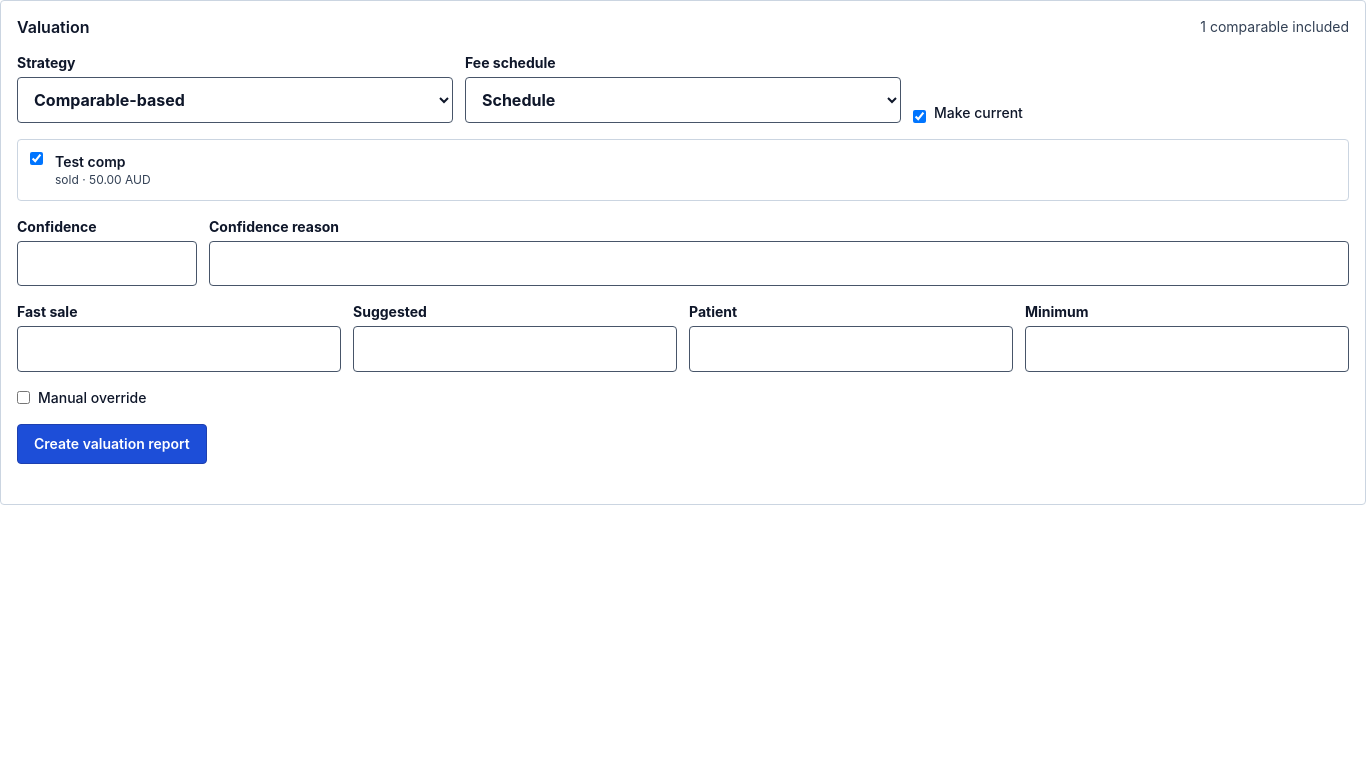
it: ValuationPanel requires an exclusion reason for excluded comps
The width and height of the screenshot is (1366, 768).
Expected: the text "Test comp" is shown, [55, 153, 126, 170]
Click the checkbox labelled "Test comp sold · 50.00 AUD".
click(36, 158)  # box [30, 152, 43, 165]
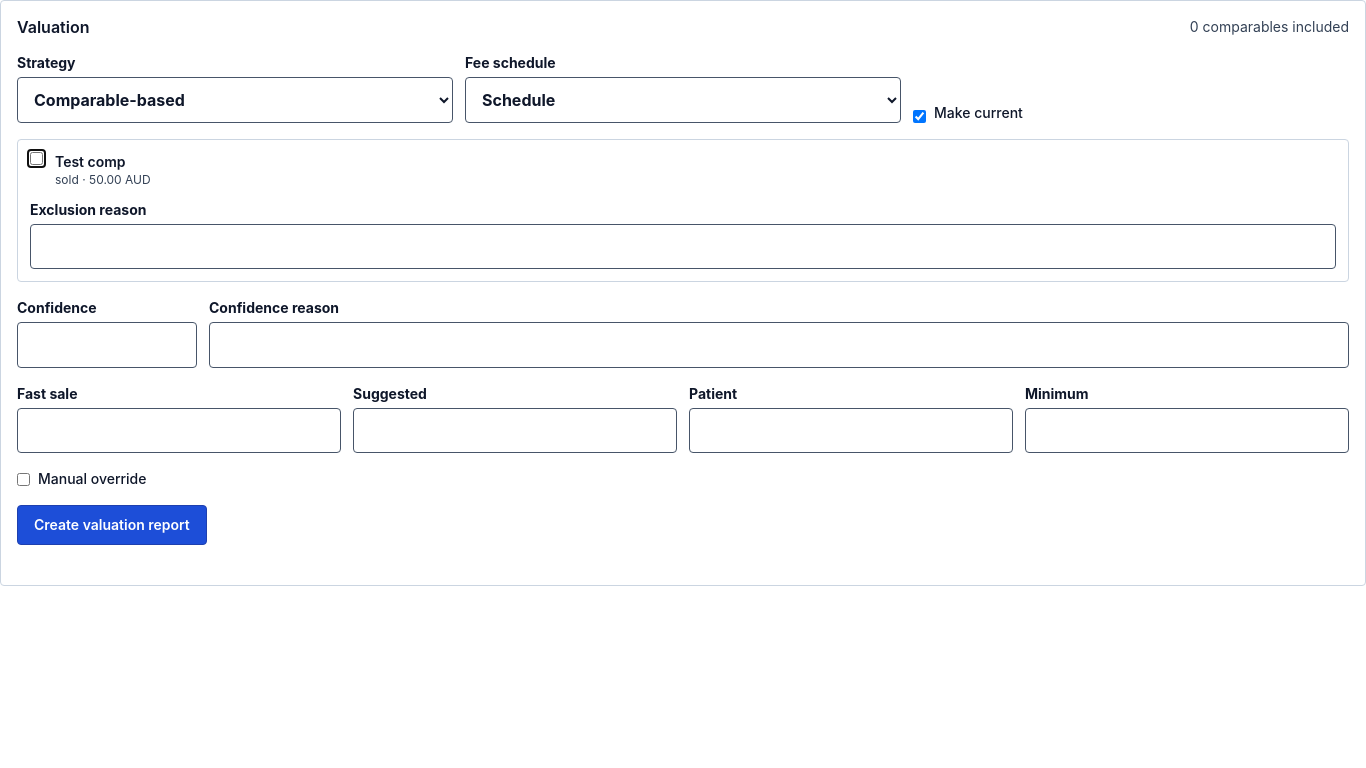
Click the button "Create valuation report".
click(112, 525)  # box [17, 505, 207, 545]
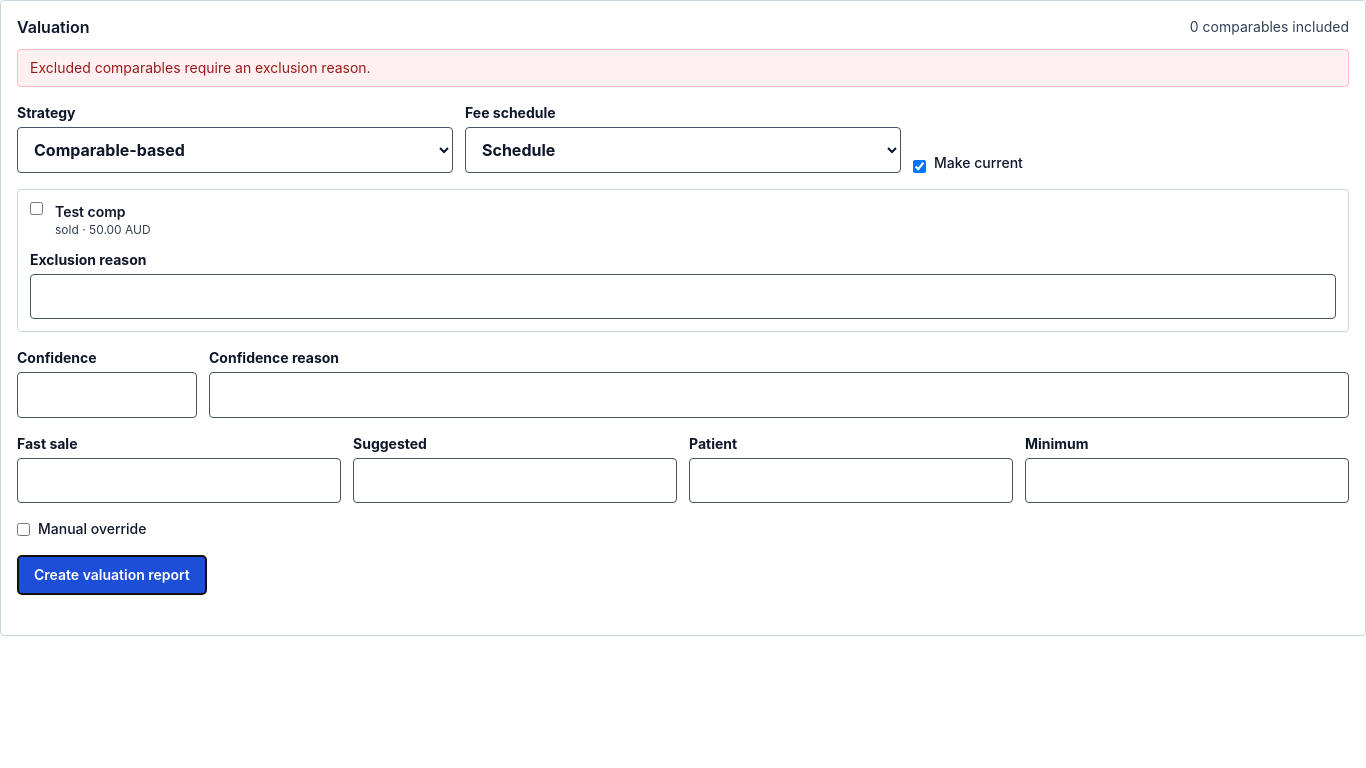
Result: the text "Excluded comparables require an exclusion reason." is shown at [17, 49, 1349, 87]
